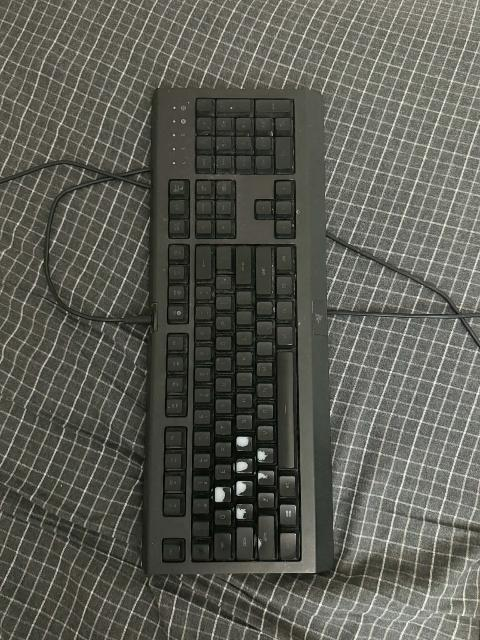ahkeyboard: (130, 69, 343, 583)
